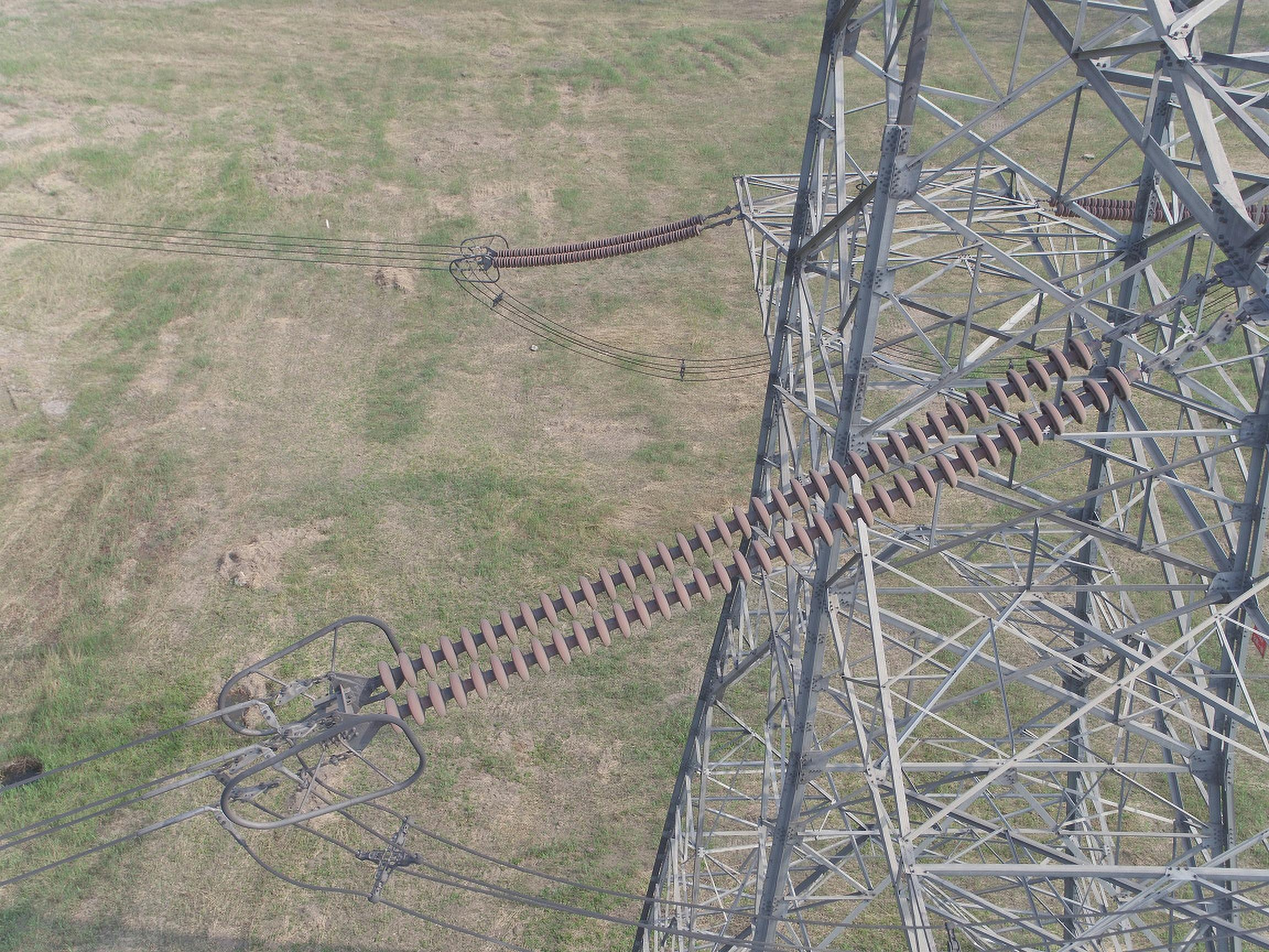insulator: (373, 335, 1135, 738), (489, 211, 708, 271), (1045, 193, 1269, 228)
